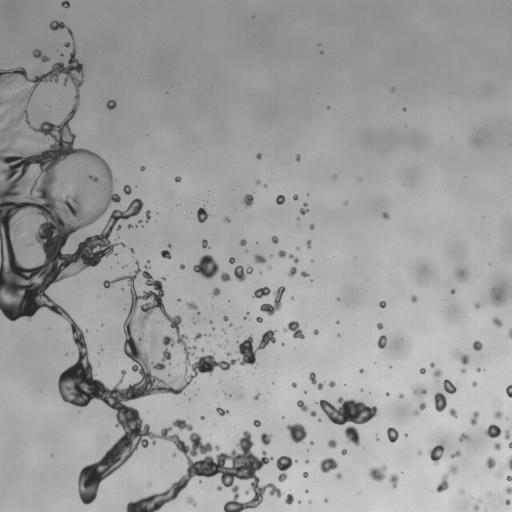droplet: (315, 396, 378, 446), (193, 254, 219, 279), (276, 456, 298, 482), (286, 423, 307, 443), (488, 286, 506, 307), (233, 265, 253, 282), (368, 464, 387, 481), (428, 445, 444, 465), (319, 457, 338, 473), (433, 392, 447, 412), (452, 349, 469, 365), (240, 191, 255, 208), (454, 265, 469, 282), (443, 379, 457, 395), (160, 243, 171, 259), (485, 456, 496, 472), (260, 432, 273, 445), (387, 427, 398, 442), (376, 334, 386, 348), (469, 411, 479, 425), (389, 473, 398, 488), (299, 202, 309, 215), (253, 253, 266, 263), (432, 368, 442, 381), (458, 432, 471, 442), (492, 316, 503, 327), (0, 88, 11, 99), (117, 199, 128, 210), (97, 215, 108, 226), (91, 223, 102, 234), (73, 230, 84, 241), (61, 243, 72, 254), (247, 243, 258, 254), (232, 247, 243, 258), (297, 248, 308, 259), (212, 252, 223, 263), (237, 256, 248, 267), (218, 261, 229, 272), (222, 262, 233, 273), (280, 275, 291, 286), (479, 291, 490, 302), (263, 293, 274, 304), (36, 306, 47, 317), (492, 306, 503, 317), (200, 307, 211, 318), (375, 308, 386, 319), (198, 322, 209, 333), (85, 343, 96, 354), (68, 344, 79, 355), (86, 352, 97, 363), (66, 354, 77, 365), (130, 372, 141, 383), (424, 395, 435, 406), (89, 397, 100, 408), (300, 417, 311, 428), (477, 419, 488, 430), (354, 422, 365, 433), (150, 423, 161, 434), (114, 426, 125, 437), (250, 433, 261, 444), (338, 434, 349, 445), (250, 445, 261, 456), (499, 446, 510, 457), (328, 448, 339, 459), (91, 451, 102, 462), (439, 451, 450, 462), (495, 454, 506, 465), (265, 460, 276, 471), (309, 461, 320, 472), (98, 478, 109, 489), (161, 479, 172, 490), (278, 481, 289, 492), (222, 489, 233, 500), (210, 286, 220, 298), (220, 272, 231, 282), (472, 340, 482, 351), (186, 495, 196, 506), (284, 493, 293, 505), (106, 99, 116, 109), (327, 438, 337, 448), (201, 238, 210, 249), (288, 266, 297, 277), (186, 301, 197, 310), (276, 194, 285, 204), (448, 408, 457, 418), (493, 409, 502, 419), (123, 184, 131, 195), (82, 503, 93, 511), (50, 54, 59, 63), (42, 62, 51, 71), (113, 185, 122, 194), (293, 199, 302, 208), (108, 201, 117, 210), (305, 229, 314, 238), (271, 243, 280, 252), (252, 261, 261, 270), (464, 263, 473, 272), (125, 265, 134, 274), (451, 279, 460, 288), (495, 280, 504, 289), (53, 296, 62, 305), (17, 315, 26, 324), (214, 318, 223, 327), (499, 324, 508, 333), (64, 330, 73, 339), (185, 337, 194, 346), (195, 338, 204, 347), (465, 346, 474, 355), (253, 349, 262, 358), (189, 354, 198, 363), (124, 357, 133, 366), (473, 372, 482, 381), (104, 380, 113, 389), (118, 381, 127, 390), (404, 390, 413, 399), (125, 398, 134, 407), (315, 408, 324, 417), (163, 418, 172, 427), (463, 424, 472, 433), (495, 434, 504, 443), (103, 441, 112, 450), (167, 441, 176, 450), (489, 449, 498, 458), (372, 459, 381, 468), (382, 469, 391, 478), (381, 476, 390, 485), (178, 488, 187, 497), (261, 490, 270, 499), (61, 0, 70, 8), (277, 249, 286, 257), (252, 419, 261, 427), (493, 441, 501, 450), (474, 302, 484, 309), (504, 485, 511, 495), (505, 293, 511, 304), (184, 505, 195, 511), (284, 505, 295, 511), (300, 271, 310, 277), (222, 216, 230, 223), (271, 235, 278, 243), (239, 238, 246, 246), (410, 295, 417, 303), (379, 300, 386, 308), (327, 380, 335, 387), (310, 409, 317, 417), (0, 160, 5, 171), (0, 173, 5, 184), (306, 239, 311, 249), (382, 212, 389, 219), (376, 322, 383, 329), (225, 351, 232, 358), (335, 472, 342, 479), (458, 487, 465, 494), (64, 34, 71, 41), (65, 46, 72, 53), (11, 62, 18, 69), (27, 72, 34, 79), (15, 73, 22, 80), (0, 103, 7, 110), (15, 106, 22, 113), (72, 141, 79, 148), (1, 162, 8, 169), (110, 168, 117, 175), (117, 189, 124, 196), (238, 192, 245, 199), (127, 193, 134, 200), (284, 194, 291, 201), (252, 196, 259, 203), (104, 209, 111, 216), (138, 209, 145, 216), (129, 215, 136, 222), (117, 217, 124, 224), (299, 241, 306, 248), (202, 248, 209, 255), (260, 250, 267, 257), (133, 251, 140, 258), (193, 257, 200, 264), (287, 259, 294, 266), (86, 264, 93, 271), (214, 270, 221, 277), (195, 272, 202, 279), (151, 273, 158, 280), (244, 273, 251, 280), (121, 278, 128, 285), (160, 281, 167, 288), (123, 284, 130, 291), (269, 285, 276, 292), (44, 287, 51, 294), (280, 294, 287, 301), (160, 296, 167, 303), (168, 310, 175, 317), (260, 310, 267, 317), (76, 321, 83, 328), (214, 327, 221, 334), (286, 329, 293, 336), (375, 329, 382, 336), (119, 334, 126, 341), (83, 336, 90, 343), (251, 340, 258, 347), (213, 354, 220, 361), (455, 360, 462, 367), (212, 365, 219, 372), (425, 366, 432, 373), (125, 367, 132, 374), (314, 375, 321, 382), (437, 375, 444, 382), (322, 382, 329, 389), (390, 391, 397, 398), (443, 391, 450, 398), (342, 394, 349, 401), (353, 395, 360, 402), (365, 400, 372, 407), (334, 401, 341, 408), (411, 402, 418, 409), (314, 405, 321, 412), (442, 406, 449, 413), (488, 407, 495, 414), (501, 409, 508, 416), (137, 411, 144, 418), (368, 417, 375, 424), (288, 418, 295, 425), (494, 419, 501, 426), (283, 429, 290, 436), (269, 436, 276, 443), (302, 436, 309, 443), (155, 437, 162, 444), (199, 437, 206, 444), (261, 443, 268, 450), (335, 443, 342, 450), (223, 447, 230, 454), (235, 447, 242, 454), (176, 450, 183, 457), (255, 452, 262, 459), (480, 460, 487, 467), (314, 464, 321, 471), (492, 464, 499, 471), (75, 465, 82, 472), (456, 466, 463, 473), (284, 467, 291, 474), (180, 468, 187, 475), (328, 468, 335, 475), (254, 469, 261, 476), (214, 472, 221, 479), (192, 474, 199, 481), (172, 475, 179, 482), (368, 477, 375, 484), (446, 477, 453, 484), (434, 478, 441, 485), (257, 480, 264, 487), (274, 480, 281, 487), (143, 490, 150, 497), (279, 493, 286, 500), (130, 495, 137, 502), (91, 498, 98, 505), (174, 176, 181, 182), (179, 264, 186, 270), (256, 316, 263, 322), (419, 368, 425, 375), (237, 392, 243, 399), (341, 448, 347, 455), (0, 64, 6, 71), (295, 154, 300, 162), (331, 174, 337, 180), (229, 257, 235, 263), (222, 315, 228, 321), (460, 368, 466, 374), (471, 381, 477, 387), (0, 105, 4, 114), (0, 119, 4, 128), (0, 141, 4, 150), (0, 310, 4, 319), (505, 505, 511, 511), (398, 392, 403, 399), (506, 475, 511, 482), (256, 153, 261, 159), (140, 165, 145, 171), (293, 194, 298, 200), (309, 223, 314, 229), (450, 288, 455, 294), (358, 368, 364, 373), (291, 382, 297, 387), (302, 472, 308, 477), (505, 499, 510, 505), (507, 480, 511, 487), (507, 493, 511, 500), (120, 507, 127, 511), (156, 507, 163, 511), (242, 507, 249, 511), (467, 507, 474, 511), (390, 87, 395, 92), (228, 322, 233, 327), (313, 329, 318, 334), (476, 367, 481, 372), (309, 440, 314, 445), (417, 450, 422, 455), (323, 498, 328, 503), (56, 17, 61, 22), (63, 20, 68, 25), (56, 27, 61, 32), (51, 29, 56, 34), (30, 45, 35, 50), (37, 45, 42, 50), (318, 45, 323, 50), (40, 50, 45, 55), (65, 54, 70, 59), (74, 54, 79, 59), (36, 56, 41, 61), (77, 58, 82, 63), (63, 61, 68, 66), (81, 65, 86, 70), (36, 71, 41, 76), (29, 81, 34, 86), (78, 85, 83, 90), (17, 93, 22, 98), (20, 101, 25, 106), (111, 107, 116, 112), (73, 112, 78, 117), (67, 120, 72, 125), (70, 128, 75, 133), (1, 131, 6, 136), (88, 146, 93, 151), (99, 153, 104, 158), (291, 153, 296, 158), (251, 154, 256, 159), (299, 155, 304, 160), (106, 160, 111, 165), (174, 171, 179, 176), (111, 173, 116, 178), (258, 183, 263, 188), (129, 184, 134, 189), (272, 193, 277, 198), (140, 197, 145, 202), (240, 201, 245, 206), (197, 203, 202, 208), (277, 203, 282, 208), (246, 205, 251, 210), (204, 207, 209, 212), (386, 209, 391, 214), (192, 210, 197, 215), (297, 212, 302, 217), (206, 215, 211, 220), (379, 216, 384, 221), (148, 217, 153, 222), (193, 217, 198, 222), (204, 218, 209, 223), (304, 223, 309, 228), (313, 223, 318, 228), (239, 234, 244, 239), (276, 234, 281, 239), (235, 238, 240, 243), (267, 239, 272, 244), (309, 241, 314, 246), (244, 243, 249, 248), (163, 245, 168, 250), (240, 245, 245, 250), (112, 246, 117, 251), (284, 251, 289, 256), (156, 252, 161, 257), (273, 252, 278, 257), (293, 252, 298, 257), (283, 254, 288, 259), (100, 255, 105, 260), (162, 256, 167, 261), (118, 261, 123, 266), (96, 262, 101, 267), (231, 262, 236, 267), (132, 264, 137, 269), (140, 266, 145, 271), (285, 267, 290, 272), (147, 268, 152, 273), (295, 269, 300, 274), (129, 270, 134, 275), (229, 272, 234, 277), (69, 275, 74, 280), (107, 276, 112, 281), (258, 283, 263, 288), (208, 287, 213, 292), (214, 294, 219, 299), (416, 296, 421, 301), (186, 297, 191, 302), (406, 297, 411, 302), (126, 298, 131, 303), (194, 300, 199, 305), (469, 302, 474, 307), (62, 305, 67, 310), (125, 305, 130, 310), (478, 306, 483, 311), (191, 308, 196, 313), (273, 309, 278, 314), (49, 310, 54, 315), (68, 311, 73, 316), (497, 315, 502, 320), (289, 316, 294, 321), (227, 317, 232, 322), (224, 320, 229, 325), (283, 322, 288, 327), (491, 323, 496, 328), (66, 324, 71, 329), (372, 324, 377, 329), (67, 327, 72, 332), (206, 328, 211, 333), (261, 328, 266, 333), (178, 329, 183, 334), (301, 329, 306, 334), (191, 331, 196, 336), (222, 334, 227, 339), (374, 335, 379, 340), (295, 336, 300, 341), (471, 336, 476, 341), (476, 336, 481, 341), (238, 338, 243, 343), (219, 339, 224, 344), (384, 342, 389, 347), (481, 342, 486, 347), (468, 343, 473, 348), (234, 345, 239, 350), (374, 345, 379, 350), (480, 346, 485, 351), (188, 347, 193, 352), (378, 347, 383, 352), (201, 351, 206, 356), (238, 353, 243, 358), (225, 357, 230, 362), (89, 360, 94, 365), (234, 360, 239, 365), (245, 362, 250, 367), (463, 363, 468, 368), (433, 364, 438, 369), (203, 371, 208, 376), (54, 375, 59, 380), (291, 377, 296, 382), (306, 378, 311, 383), (53, 382, 58, 387), (467, 382, 472, 387), (503, 382, 508, 387), (312, 383, 317, 388), (470, 385, 475, 390), (182, 387, 187, 392), (54, 388, 59, 393), (167, 391, 172, 396), (177, 392, 182, 397), (173, 393, 178, 398), (503, 393, 508, 398), (57, 395, 62, 400), (303, 400, 308, 405), (65, 401, 70, 406), (73, 404, 78, 409), (80, 405, 85, 410), (296, 406, 301, 411), (305, 409, 310, 414), (419, 409, 424, 414), (455, 410, 460, 415), (223, 412, 228, 417), (468, 413, 473, 418), (178, 415, 183, 420), (313, 415, 318, 420), (171, 416, 176, 421), (112, 418, 117, 423), (185, 419, 190, 424), (327, 419, 332, 424), (162, 423, 167, 428), (483, 424, 488, 429), (148, 426, 153, 431), (303, 426, 308, 431), (499, 426, 504, 431), (191, 427, 196, 432), (264, 429, 269, 434), (464, 430, 469, 435), (499, 431, 504, 436), (397, 432, 402, 437), (455, 432, 460, 437), (238, 433, 243, 438), (383, 434, 388, 439), (326, 435, 331, 440), (384, 437, 389, 442), (147, 438, 152, 443), (394, 438, 399, 443), (461, 439, 466, 444), (504, 439, 509, 444), (268, 440, 273, 445), (210, 442, 215, 447), (137, 443, 142, 448), (428, 445, 433, 450), (132, 450, 137, 455), (286, 452, 291, 457), (265, 453, 270, 458), (425, 454, 430, 459), (453, 455, 458, 460), (126, 457, 131, 462), (437, 458, 442, 463), (290, 461, 295, 466), (261, 463, 266, 468), (112, 470, 117, 475), (340, 471, 345, 476), (396, 472, 401, 477), (200, 475, 205, 480), (283, 478, 288, 483), (335, 478, 340, 483), (395, 480, 400, 485), (221, 485, 226, 490), (227, 485, 232, 490), (265, 486, 270, 491), (160, 487, 165, 492), (391, 487, 396, 492), (440, 489, 445, 494), (481, 495, 486, 500), (192, 496, 197, 501), (228, 496, 233, 501), (76, 497, 81, 502), (292, 497, 297, 502), (472, 498, 477, 503), (220, 500, 225, 505), (285, 503, 290, 508), (478, 503, 483, 508), (137, 219, 143, 223), (172, 451, 176, 457), (255, 180, 260, 184), (344, 200, 348, 205), (295, 246, 300, 250), (211, 326, 215, 331), (430, 362, 434, 367), (326, 105, 330, 109), (402, 107, 406, 111), (296, 217, 300, 221), (146, 259, 150, 263), (267, 265, 271, 269), (290, 296, 294, 300), (336, 297, 340, 301), (335, 320, 339, 324), (303, 390, 307, 394), (385, 392, 389, 396), (200, 416, 204, 420), (305, 459, 309, 463), (198, 479, 202, 483), (297, 500, 301, 504), (201, 348, 204, 353), (508, 396, 511, 401), (508, 430, 511, 435), (508, 471, 511, 476), (219, 508, 224, 511), (477, 508, 482, 511), (317, 43, 321, 46), (320, 50, 323, 54), (263, 184, 267, 187), (74, 238, 78, 241), (269, 254, 273, 257), (310, 259, 314, 262), (121, 286, 124, 290), (177, 298, 181, 301), (209, 320, 212, 324), (337, 333, 340, 337), (281, 342, 284, 346), (217, 344, 221, 347), (97, 363, 100, 367), (318, 418, 321, 422), (50, 453, 53, 457), (147, 482, 151, 485), (305, 489, 308, 493), (488, 492, 491, 496), (0, 83, 2, 88), (0, 111, 2, 116), (60, 53, 63, 56), (245, 249, 248, 252), (259, 271, 262, 274), (310, 279, 313, 282), (97, 295, 100, 298), (227, 299, 230, 302), (65, 352, 68, 355), (389, 365, 392, 368), (360, 388, 363, 391), (506, 417, 509, 420), (404, 433, 407, 436), (306, 448, 309, 451), (308, 500, 311, 503), (484, 508, 487, 511), (47, 20, 50, 23), (70, 28, 73, 31), (74, 40, 77, 43), (69, 41, 72, 44), (322, 52, 325, 55), (318, 53, 321, 56), (46, 54, 49, 57), (107, 97, 110, 100), (112, 97, 115, 100), (24, 98, 27, 101), (328, 103, 331, 106), (405, 106, 408, 109), (324, 107, 327, 110), (327, 108, 330, 111), (399, 108, 402, 111), (296, 150, 299, 153), (254, 151, 257, 154), (260, 155, 263, 158), (257, 158, 260, 161), (142, 163, 145, 166), (137, 165, 140, 168), (143, 168, 146, 171), (140, 170, 143, 173), (111, 177, 114, 180), (176, 181, 179, 184), (121, 184, 124, 187), (263, 187, 266, 190), (306, 189, 309, 192), (280, 192, 283, 195), (308, 192, 311, 195), (251, 193, 254, 196), (297, 195, 300, 198), (273, 200, 276, 203), (282, 201, 285, 204), (228, 216, 231, 219), (293, 216, 296, 219), (294, 219, 297, 222), (225, 221, 228, 224), (138, 222, 141, 225), (132, 224, 135, 227), (118, 228, 121, 231), (203, 236, 206, 239), (304, 238, 307, 241), (257, 239, 260, 242), (122, 240, 125, 243), (199, 240, 202, 243), (252, 240, 255, 243), (118, 243, 121, 246), (294, 243, 297, 246), (170, 244, 173, 247), (132, 247, 135, 250), (127, 248, 130, 251), (132, 253, 135, 256), (147, 256, 150, 259), (226, 257, 229, 260), (132, 259, 135, 262), (149, 259, 152, 262), (178, 261, 181, 264), (182, 261, 185, 264), (146, 263, 149, 266), (176, 264, 179, 267), (184, 265, 187, 268), (178, 267, 181, 270), (242, 268, 245, 271), (251, 270, 254, 273), (305, 270, 308, 273), (162, 274, 165, 277), (300, 275, 303, 278), (305, 275, 308, 278), (101, 278, 104, 281), (312, 279, 315, 282), (280, 283, 283, 286), (101, 285, 104, 288), (267, 285, 270, 288), (452, 285, 455, 288), (106, 287, 109, 290), (448, 287, 451, 290), (447, 290, 450, 293), (454, 290, 457, 293), (282, 291, 285, 294), (251, 292, 254, 295), (451, 293, 454, 296), (338, 294, 341, 297), (177, 295, 180, 298), (293, 295, 296, 298), (229, 297, 232, 300), (333, 298, 336, 301), (378, 298, 381, 301), (383, 298, 386, 301), (224, 299, 227, 302), (291, 299, 294, 302), (175, 300, 178, 303), (337, 300, 340, 303), (228, 301, 231, 304), (184, 304, 187, 307), (377, 305, 380, 308), (383, 306, 386, 309), (164, 307, 167, 310), (473, 307, 476, 310), (196, 308, 199, 311), (246, 308, 249, 311), (224, 312, 227, 315), (198, 313, 201, 316), (220, 314, 223, 317), (245, 314, 248, 317), (208, 316, 211, 319), (253, 316, 256, 319), (193, 318, 196, 321), (211, 318, 214, 321), (221, 319, 224, 322), (242, 319, 245, 322), (338, 319, 341, 322), (332, 320, 335, 323), (375, 320, 378, 323), (256, 321, 259, 324), (97, 323, 100, 326), (210, 323, 213, 326), (335, 323, 338, 326), (382, 323, 385, 326), (230, 325, 233, 328), (214, 326, 217, 329), (236, 326, 239, 329), (220, 330, 223, 333), (200, 331, 203, 334), (211, 331, 214, 334), (339, 331, 342, 334), (317, 332, 320, 335), (333, 333, 336, 336), (216, 334, 219, 337), (385, 335, 388, 338), (336, 336, 339, 339), (101, 344, 104, 347), (221, 344, 224, 347), (280, 345, 283, 348), (98, 346, 101, 349), (102, 349, 105, 352), (225, 349, 228, 352), (430, 359, 433, 362), (252, 362, 255, 365), (389, 362, 392, 365), (476, 364, 479, 367), (359, 365, 362, 368), (385, 365, 388, 368), (417, 366, 420, 369), (484, 366, 487, 369), (119, 367, 122, 370), (362, 367, 365, 370), (388, 367, 391, 370), (224, 369, 227, 372), (311, 369, 314, 372), (356, 370, 359, 373), (417, 371, 420, 374), (359, 372, 362, 375), (123, 373, 126, 376), (421, 373, 424, 376), (192, 377, 195, 380), (475, 379, 478, 382), (273, 380, 276, 383), (343, 380, 346, 383), (189, 381, 192, 384), (268, 381, 271, 384), (451, 381, 454, 384), (186, 384, 189, 387), (333, 384, 336, 387), (289, 385, 292, 388), (295, 385, 298, 388), (302, 387, 305, 390), (368, 388, 371, 391), (257, 389, 260, 392), (384, 389, 387, 392), (306, 390, 309, 393), (220, 391, 223, 394), (254, 391, 257, 394), (388, 391, 391, 394), (231, 393, 234, 396), (225, 394, 228, 397), (257, 395, 260, 398), (385, 395, 388, 398), (190, 397, 193, 400), (399, 397, 402, 400), (254, 399, 257, 402), (316, 399, 319, 402), (222, 407, 225, 410), (228, 409, 231, 412), (200, 412, 203, 415), (281, 412, 284, 415), (278, 415, 281, 418), (197, 417, 200, 420), (258, 418, 261, 421), (200, 419, 203, 422), (389, 424, 392, 427), (407, 433, 410, 436), (373, 435, 376, 438), (312, 439, 315, 442), (373, 439, 376, 442), (376, 440, 379, 443), (345, 451, 348, 454), (305, 456, 308, 459), (303, 468, 306, 471), (400, 468, 403, 471), (307, 472, 310, 475), (300, 475, 303, 478), (503, 475, 506, 478), (305, 476, 308, 479), (304, 486, 307, 489), (307, 490, 310, 493), (304, 492, 307, 495), (321, 496, 324, 499), (327, 498, 330, 501), (502, 499, 505, 502), (300, 500, 303, 503), (311, 500, 314, 503), (189, 503, 192, 506), (195, 503, 198, 506), (308, 503, 311, 506), (252, 15, 255, 17), (306, 193, 309, 195), (206, 341, 209, 343), (188, 398, 190, 401), (509, 416, 511, 419), (509, 500, 511, 503), (135, 185, 137, 187), (141, 225, 143, 227), (256, 241, 258, 243), (354, 256, 356, 258), (488, 263, 490, 265), (123, 308, 125, 310), (101, 324, 103, 326), (214, 335, 216, 337), (254, 367, 256, 369), (483, 369, 485, 371), (272, 382, 274, 384), (344, 384, 346, 386), (197, 388, 199, 390), (369, 392, 371, 394), (194, 394, 196, 396), (78, 410, 80, 412), (282, 416, 284, 418), (61, 0, 64, 1), (66, 0, 69, 1), (0, 254, 1, 257), (166, 92, 168, 93), (155, 220, 156, 222), (117, 261, 118, 263), (110, 266, 111, 268), (401, 472, 403, 473), (431, 490, 432, 491)
ligament: (259, 286, 286, 316), (436, 464, 458, 493), (412, 383, 427, 416), (495, 455, 511, 479), (309, 372, 325, 390), (32, 49, 50, 62), (252, 286, 270, 299), (193, 332, 212, 342), (296, 400, 309, 412), (473, 496, 483, 511), (191, 311, 200, 325), (216, 406, 229, 415), (288, 254, 299, 263), (252, 389, 260, 400), (450, 450, 460, 458), (145, 209, 150, 223), (506, 384, 511, 398), (222, 390, 232, 397), (127, 223, 137, 229), (243, 311, 249, 319), (129, 247, 134, 256), (508, 327, 511, 339), (97, 348, 103, 354), (375, 433, 379, 441), (0, 114, 5, 120), (221, 328, 226, 334), (121, 265, 127, 268), (155, 212, 160, 215), (176, 204, 180, 206), (235, 327, 237, 331), (239, 325, 242, 327)
